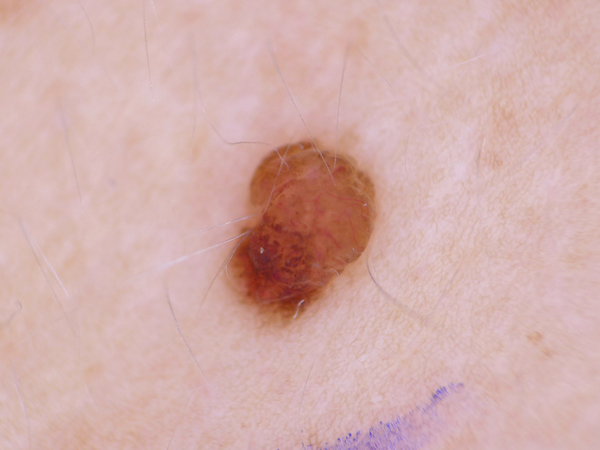Detected Lesion: (220, 133, 381, 331)
